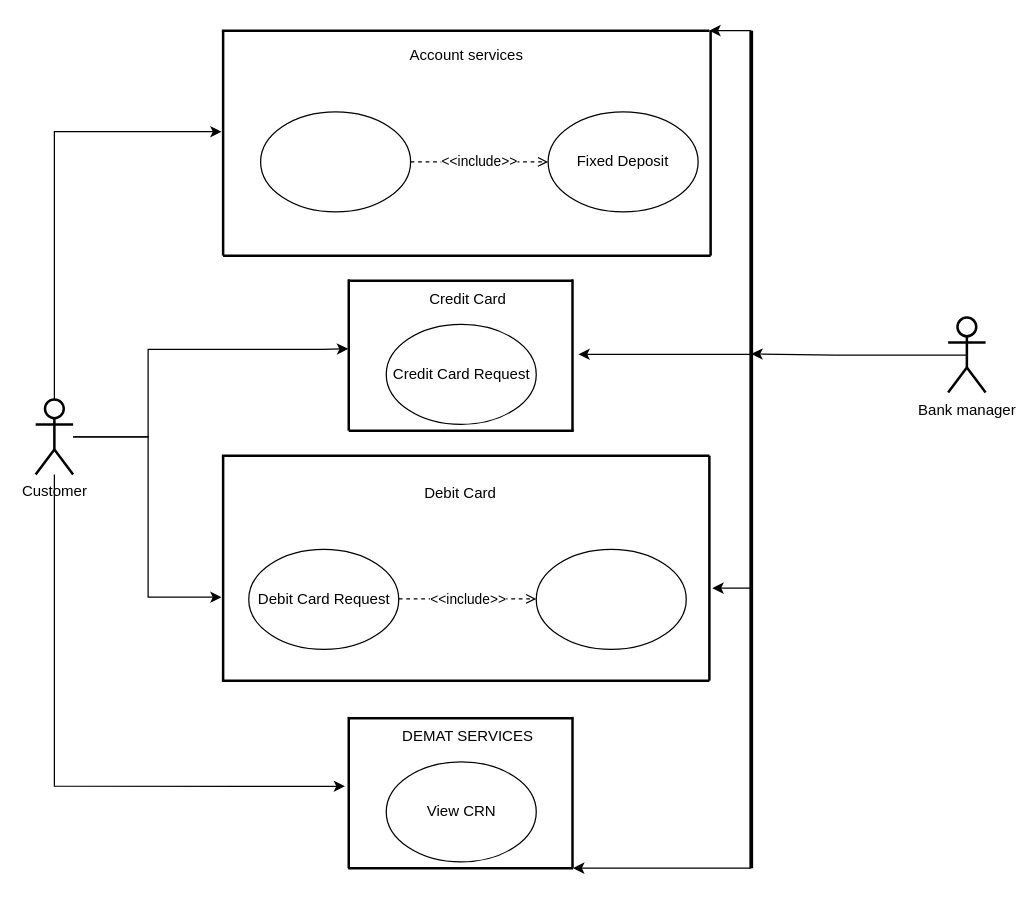
Image size: 1036x900. Some labels were removed from this diagram. Here are the shapes that lost their labels. From the top down, the centre of each, then its label:
the point at 335,161: Open Account
the point at 610,598: Renew / Replacement
